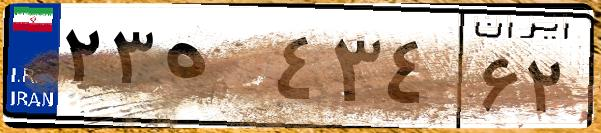2: (57, 26, 110, 100), (525, 38, 570, 115)
3: (330, 28, 385, 110), (110, 28, 158, 98)
4: (270, 28, 330, 110), (385, 28, 445, 110)
6: (475, 38, 525, 113)
ه: (158, 20, 270, 120)
